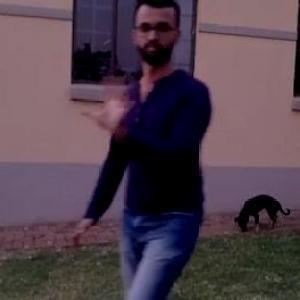follow_hand: (78, 70, 136, 130)
